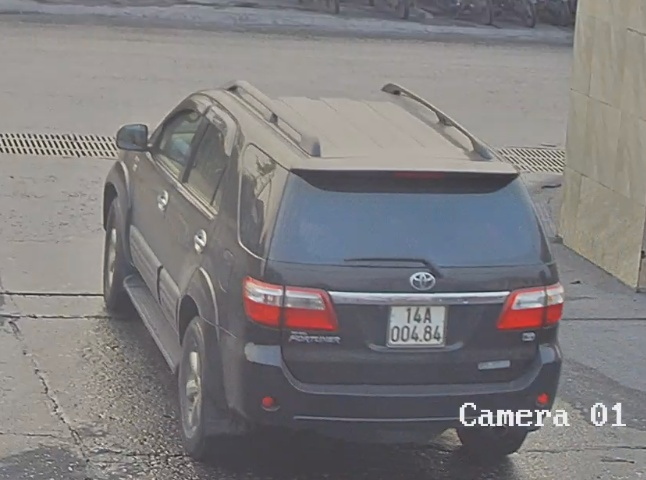vehicle plate: (383, 297, 450, 348)
